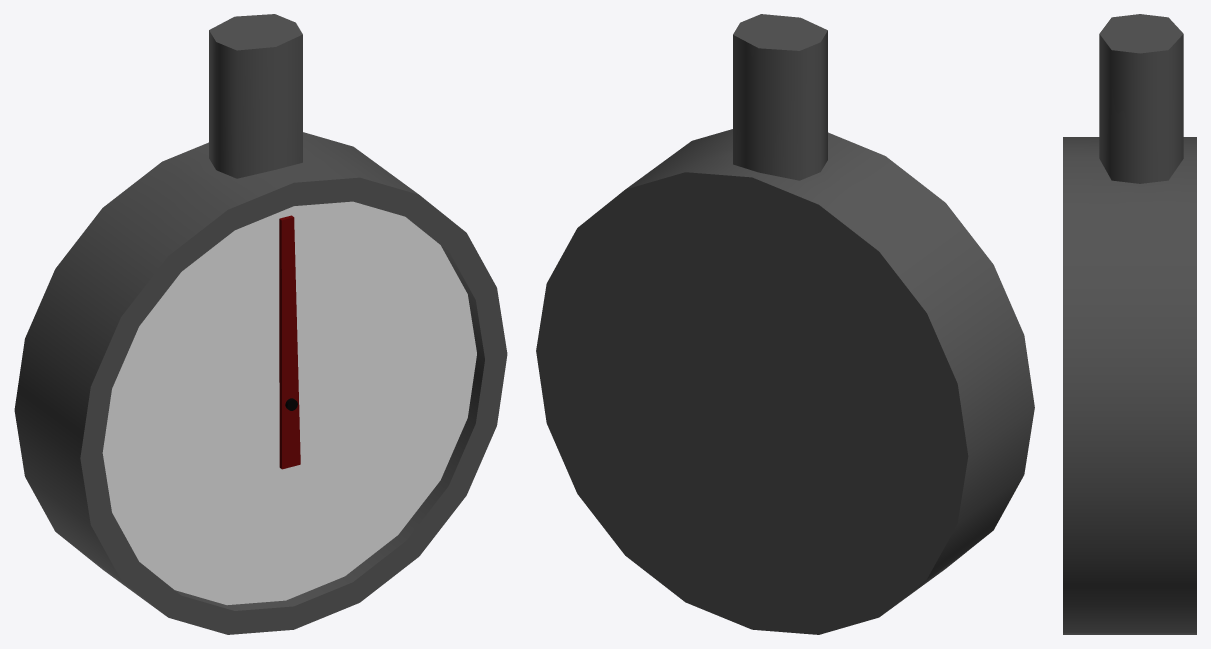
File: SM_Clock.fbx
3 renders of one model, left to right at view 1: azimuth 30°, elevation 25°; view 2: azimuth 150°, elevation 25°; view 3: azimuth 270°, elevation 25°, orthographic.
Parts seen in each view (by area): view 1: SM_ClockFace, SM_ClockFrame, SM_ClockHand; view 2: SM_ClockFrame; view 3: SM_ClockFrame.
Part boxes in pixels (x1,y1,x2,y2): SM_ClockFace: [102, 201, 476, 605]; SM_ClockFrame: [14, 14, 507, 634]; SM_ClockHand: [279, 215, 300, 469]; SM_ClockFrame: [536, 14, 1034, 634]; SM_ClockFrame: [1063, 14, 1196, 634].
Size of the model in its own units: 123 by 156 by 32.77.
